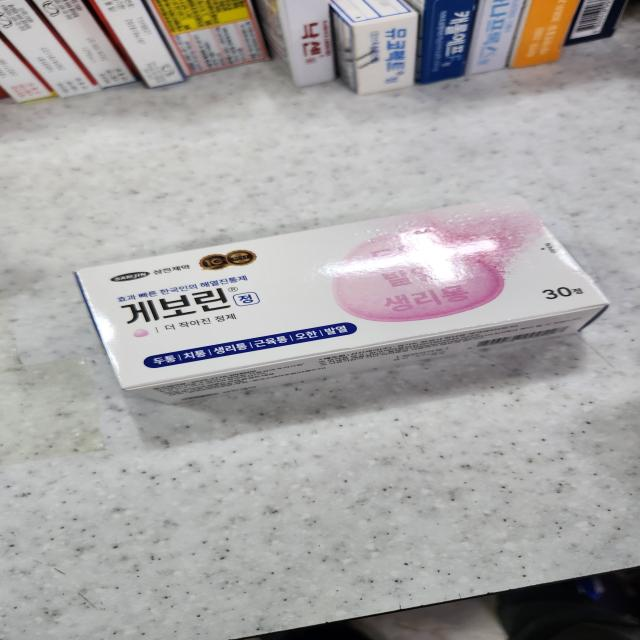box: (76, 202, 608, 401)
